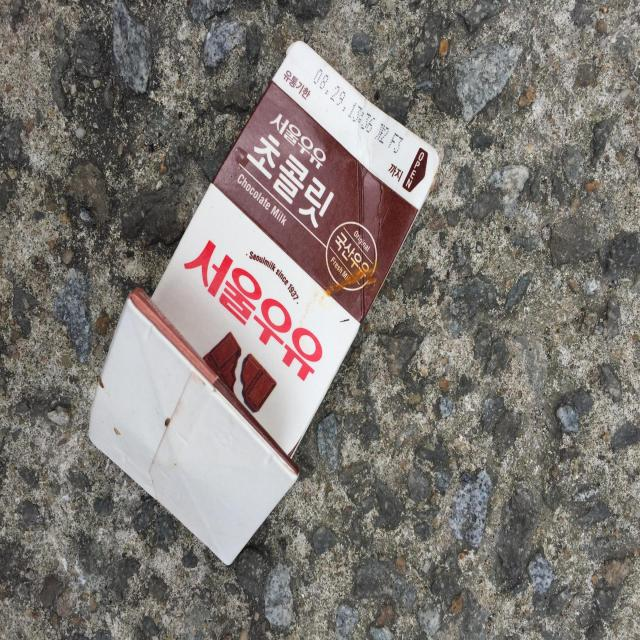paperpack: (88, 40, 439, 565)
